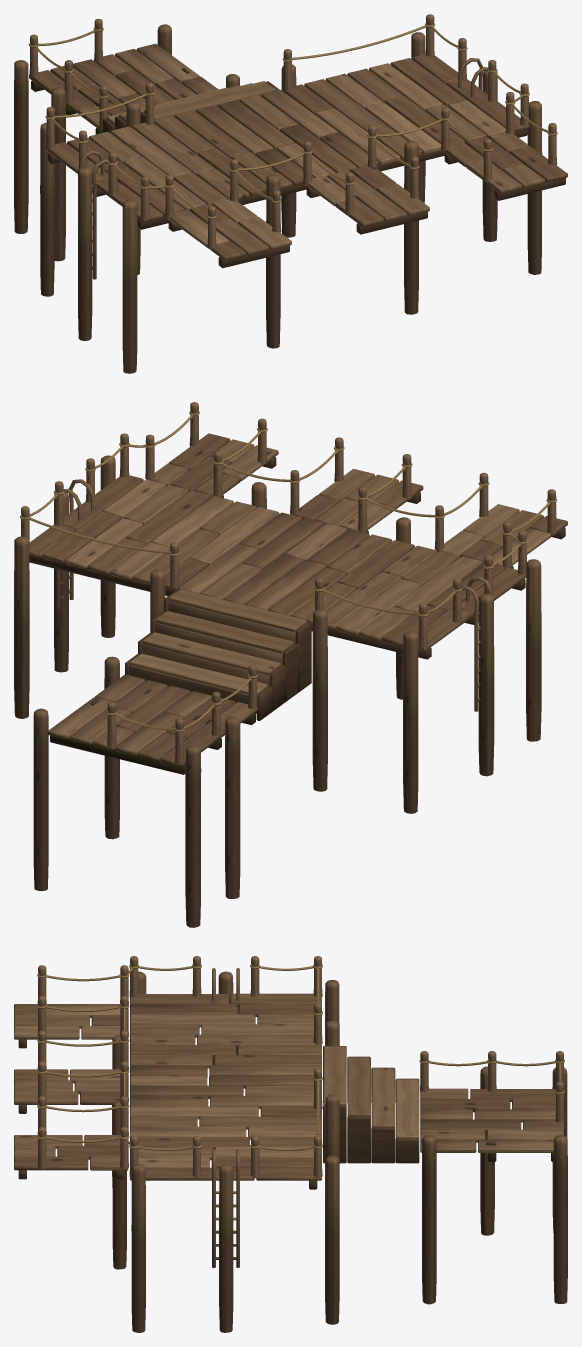
The model's file is jetty.glb.
3 views of the same model, one above another, from view 1: azimuth 30°, elevation 25°; view 2: azimuth 150°, elevation 25°; view 3: azimuth 270°, elevation 25° (orthographic). The views are drawn at different scales.
Parts seen in each view (by area): view 1: jetty; view 2: jetty; view 3: jetty.
Boxes of the visible parts, box(x1,y1,x2,y2) form: jetty: box(14, 14, 567, 373); jetty: box(14, 402, 567, 927); jetty: box(14, 956, 567, 1332).
Bounding box in the file's own units: 9.7 × 5.27 × 11.45.
3 materials, 3 textured.
